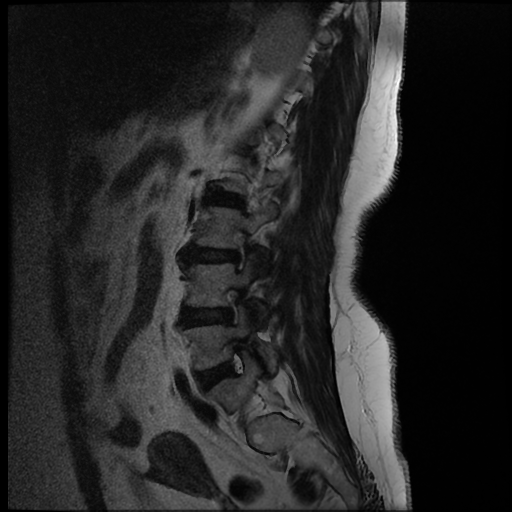LFS0: (215, 280, 248, 334), (222, 222, 252, 278)
